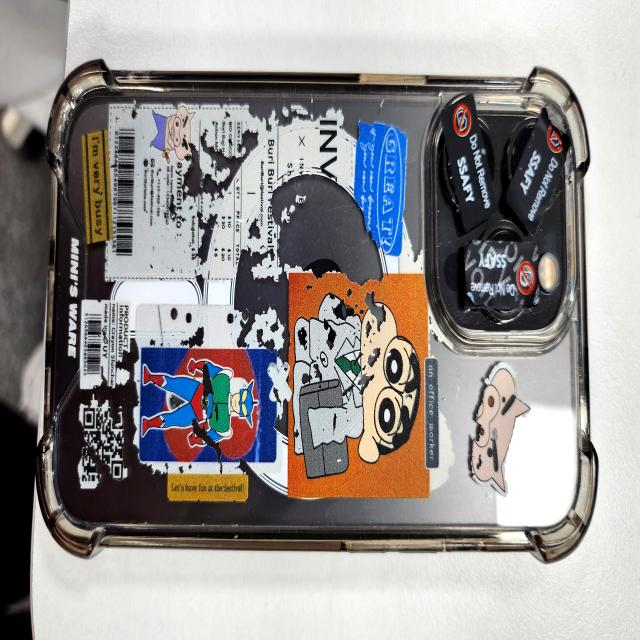phone: (36, 60, 600, 564)
removed_sticker: (466, 242, 540, 307)
sticker: (501, 110, 562, 230), (442, 104, 495, 228)
